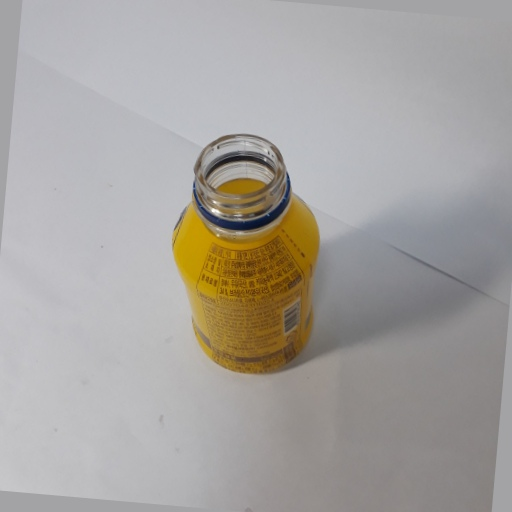Plastic_0: (168, 132, 325, 378)
